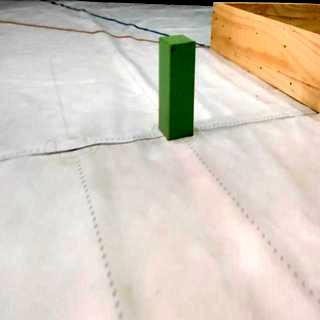greenbox: (156, 35, 196, 142)
